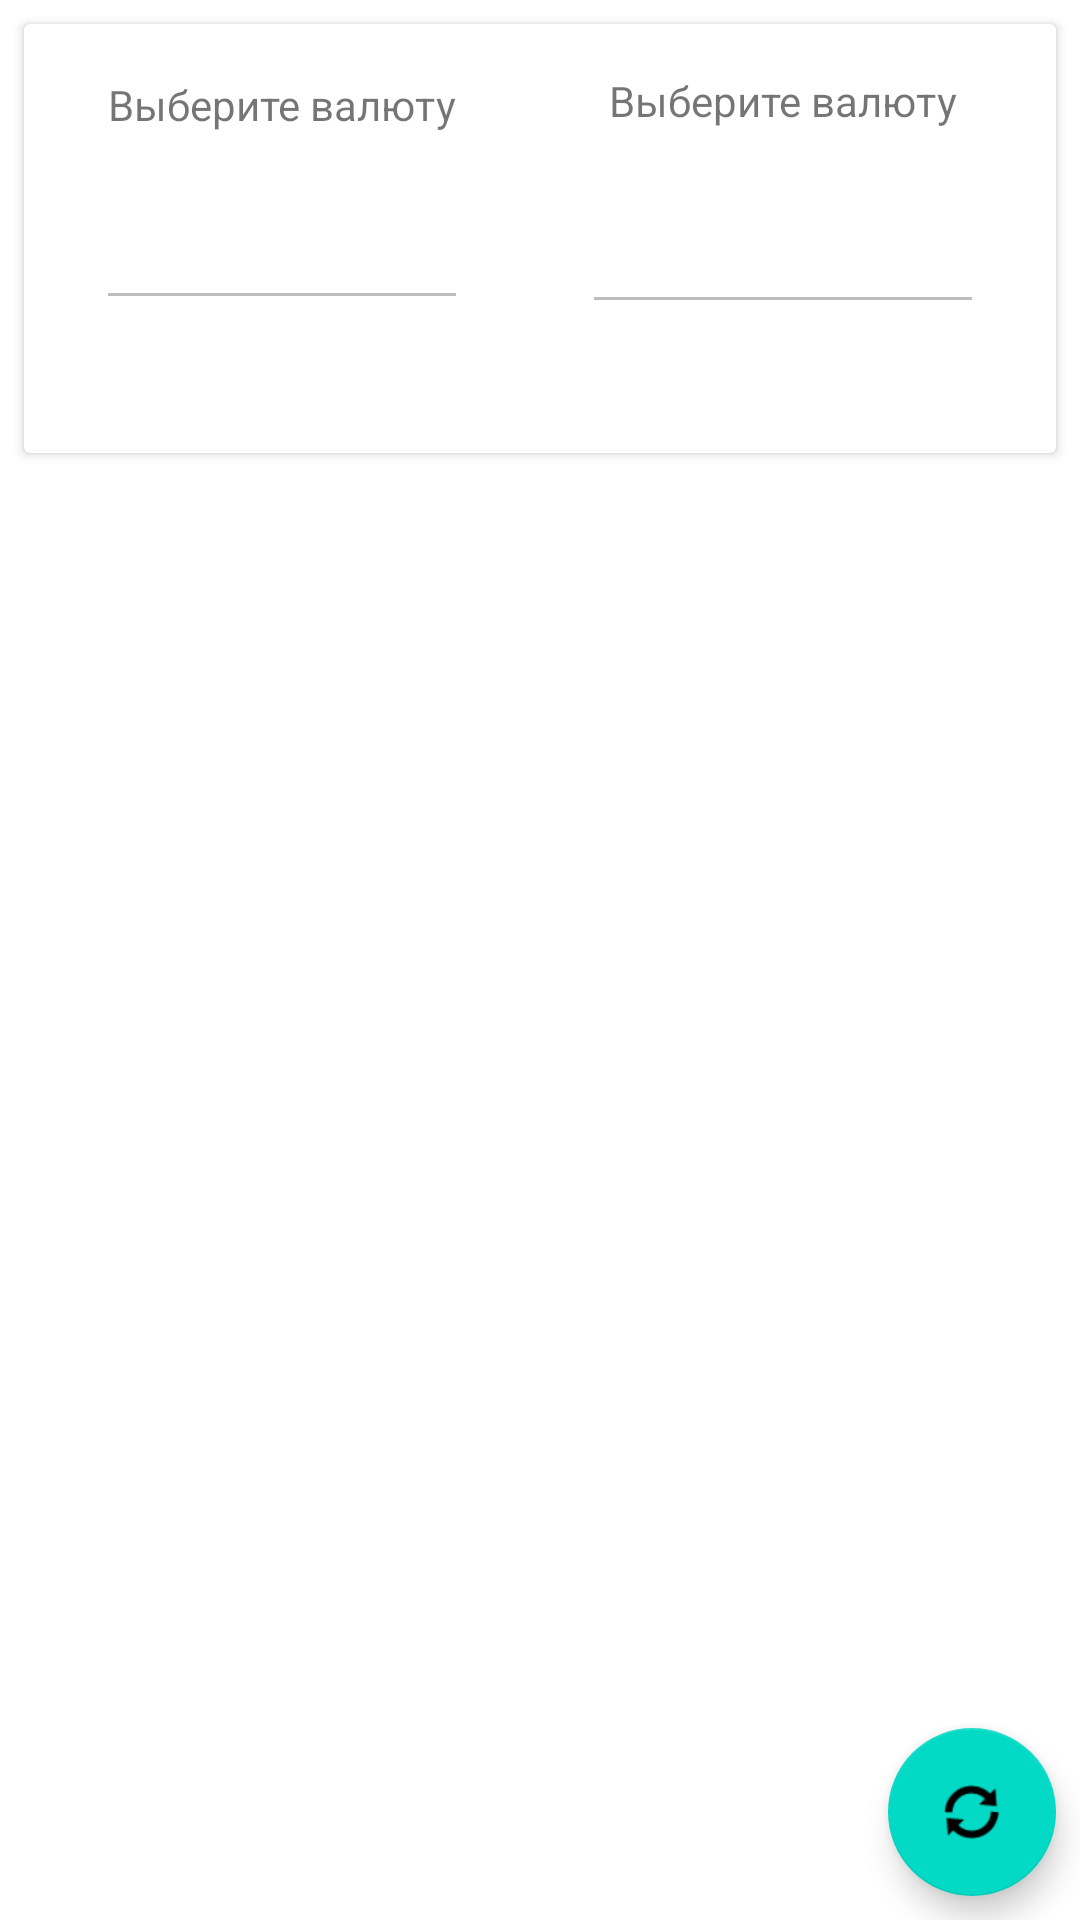

Locate icon controls on the screen. Image size 1080 x 1920, boxes as (x1, y1, x2, y2).
popup sync: (888, 1728, 1056, 1896)
